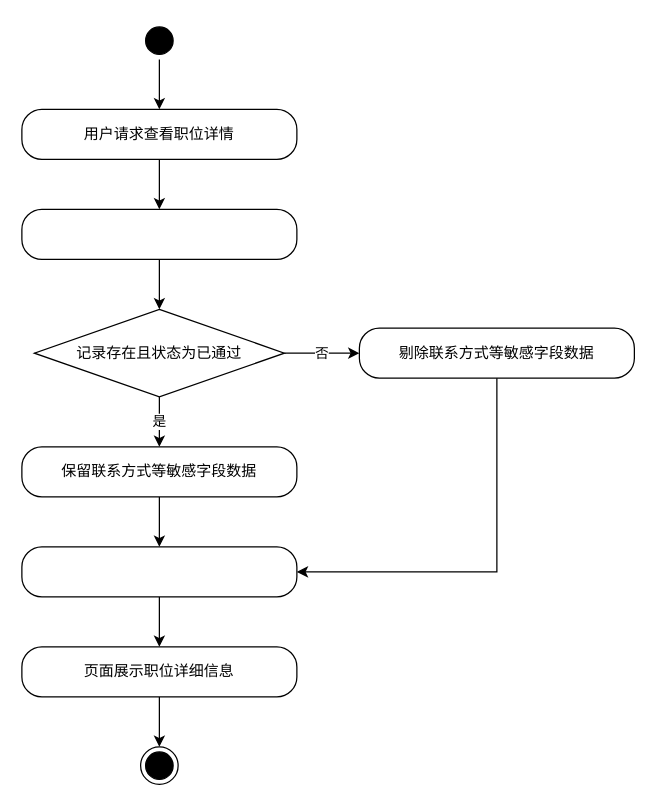
The diagram is 656 pixels wide and 806 high, and some of its shapes have lost their labels. The shapes that lost their labels are listed below. From the top down, each one's centre as x and y in pixels, then its label:
At (x=159, y=233): "系统检索用户申请记录".
At (x=159, y=571): "向前端返回职位详情数据".
